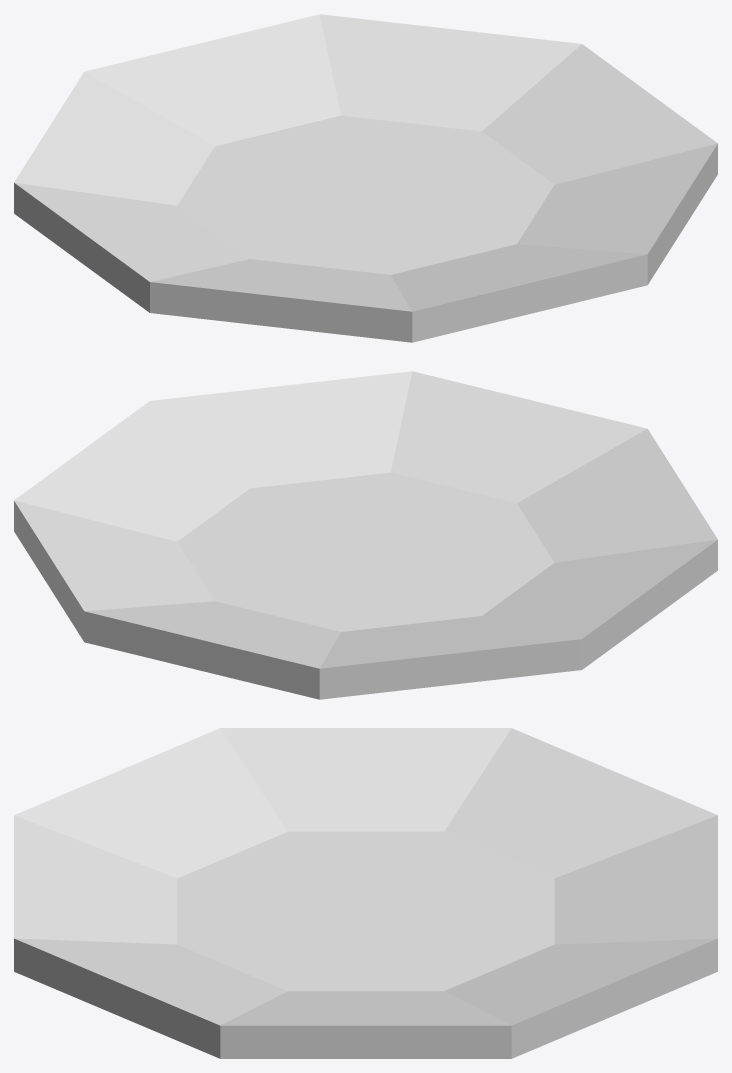
File: SM_Food_Plate_01.fbx
3 views of the same model, one above another, from view 1: azimuth 30°, elevation 25°; view 2: azimuth 150°, elevation 25°; view 3: azimuth 270°, elevation 25° (orthographic). The views are drawn at different scales.
Visible parts, largest first — view 1: SM_Food_Plate_01; view 2: SM_Food_Plate_01; view 3: SM_Food_Plate_01.
Boxes of the visible parts, x1,y1,x2,y2 form: SM_Food_Plate_01: (14,14,717,342); SM_Food_Plate_01: (14,371,717,699); SM_Food_Plate_01: (14,728,717,1058).
Size of the model in its own units: 0.3621 by 0.0385 by 0.3621.
